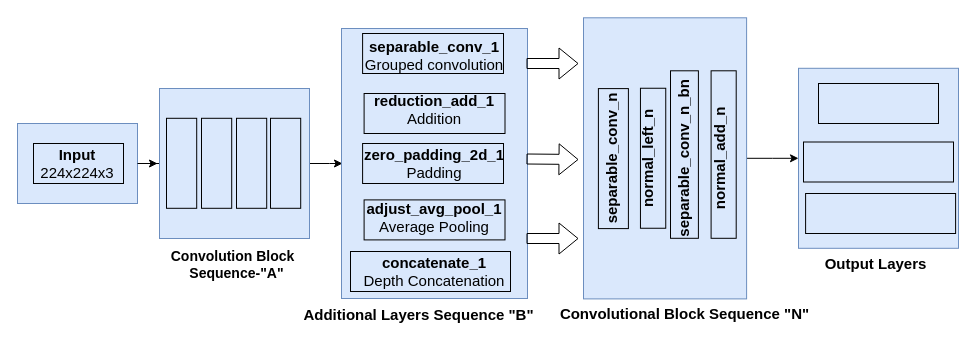
The diagram is 976 pixels wide and 347 high, and some of its shapes have lost their labels. The box of each missing label's shape, as (x1, y1, x2, y2) in pixels:
predictions Fully cached predictions_soft_max SoftMax ClassificationLayer Output: (798, 67, 958, 248)
stem_conv1 stem_bn1 stem_bn1 activation_1: (158, 88, 310, 238)
